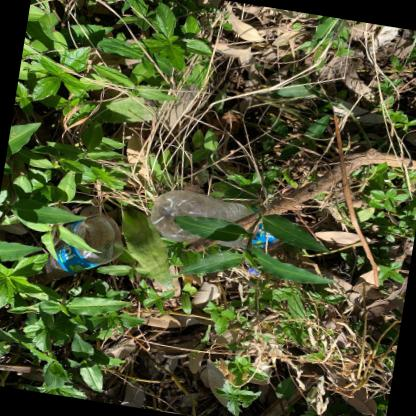Plastic: (149, 190, 280, 250), (27, 214, 123, 284)
